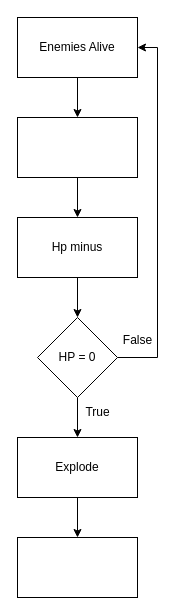
Some shapes in this 183 by 615 pixel diagram are drawn without their labels. Here are the shapes that lost their labels. From the top down, the centre of each, then its label:
[77,147]: Taking Damage
[77,567]: Dead
